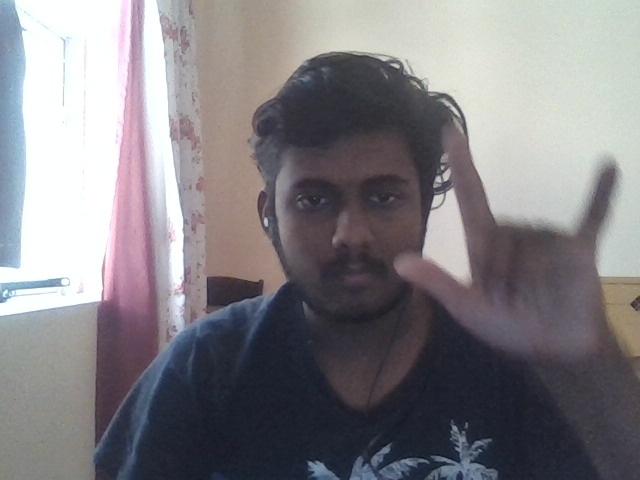thumbsup: (410, 156, 563, 430)
